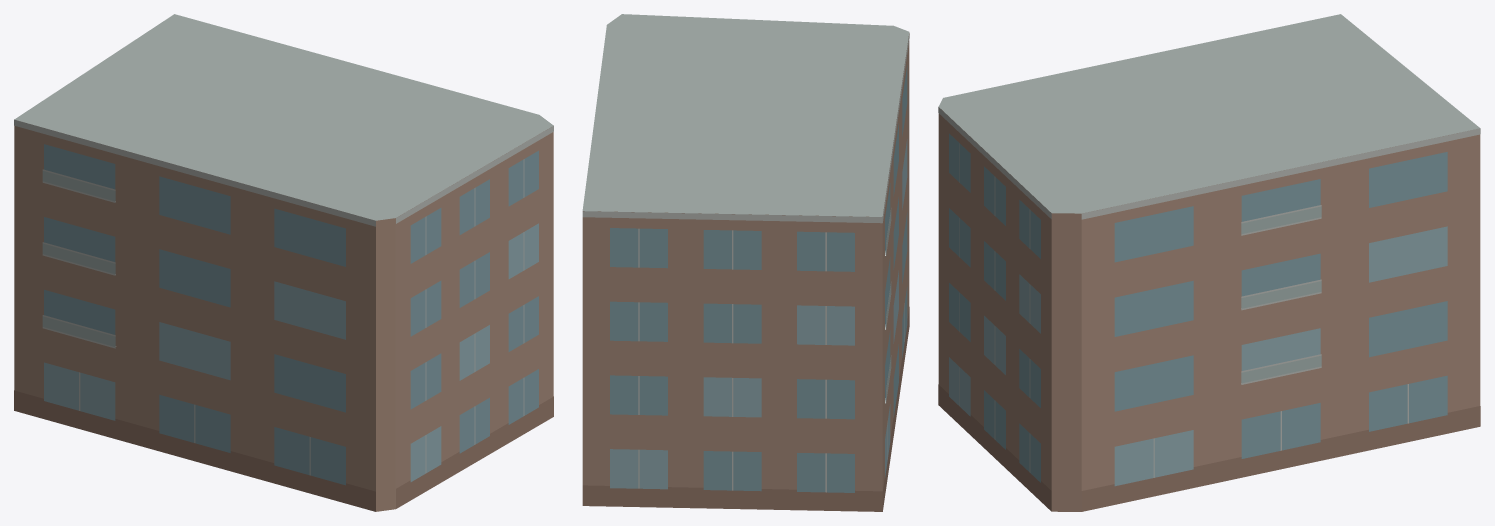
Rendered from survey-upis-32524358.glb.
3 views of the same model, side by side, from view 1: azimuth 30°, elevation 25°; view 2: azimuth 150°, elevation 25°; view 3: azimuth 270°, elevation 25° (orthographic). The views are drawn at different scales.
Visible parts, largest first — view 1: survey-upis-32524358.tmp; view 2: survey-upis-32524358.tmp; view 3: survey-upis-32524358.tmp.
Boxes of the visible parts, x1,y1,x2,y2 form: survey-upis-32524358.tmp: [14, 14, 553, 511]; survey-upis-32524358.tmp: [582, 14, 909, 511]; survey-upis-32524358.tmp: [938, 14, 1480, 511].
Bounding box in the file's own units: 16.78 × 11.7 × 19.27.
